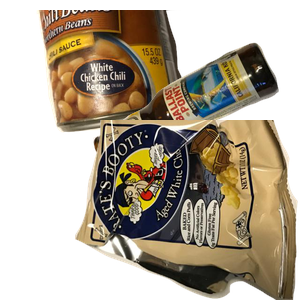glass: (91, 40, 300, 190)
metal: (34, 10, 213, 135)
plastic: (100, 152, 293, 300)
trash: (75, 120, 300, 300)
